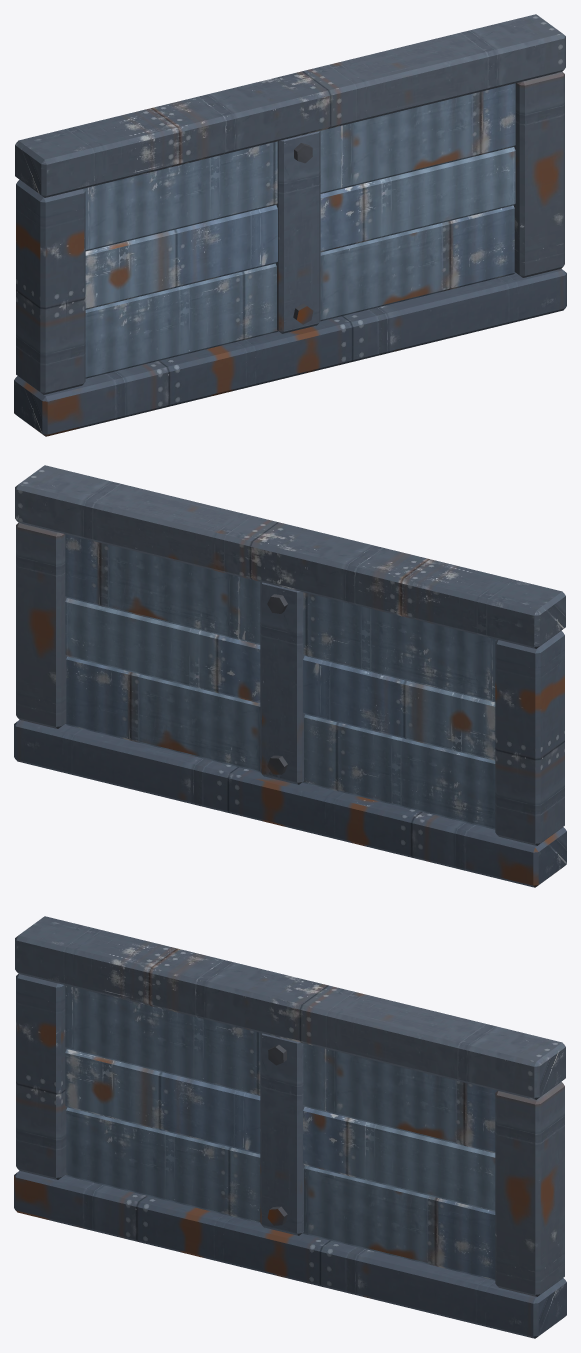
Rendered from yarim_duvar.glb.
3 views of the same model, one above another, from view 1: azimuth 30°, elevation 25°; view 2: azimuth 150°, elevation 25°; view 3: azimuth 330°, elevation 25° (orthographic).
Visible parts, largest first — view 1: yarim_duvar; view 2: yarim_duvar; view 3: yarim_duvar.
Boxes of the visible parts, <box> form: yarim_duvar: <box>14,14,566,436</box>; yarim_duvar: <box>14,465,566,887</box>; yarim_duvar: <box>14,916,566,1338</box>.
Bounding box in the file's own units: 3 × 1.51 × 0.32.
Materials: 1 (1 with a texture image).
